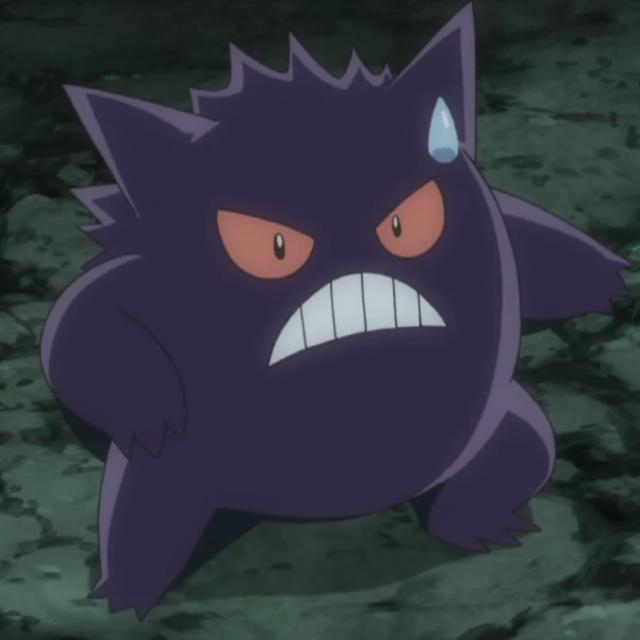Gengar: (53, 1, 559, 539)
